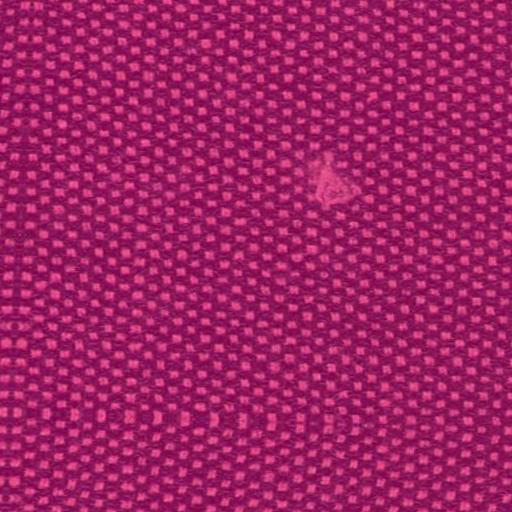knot: (310, 144, 360, 210)
